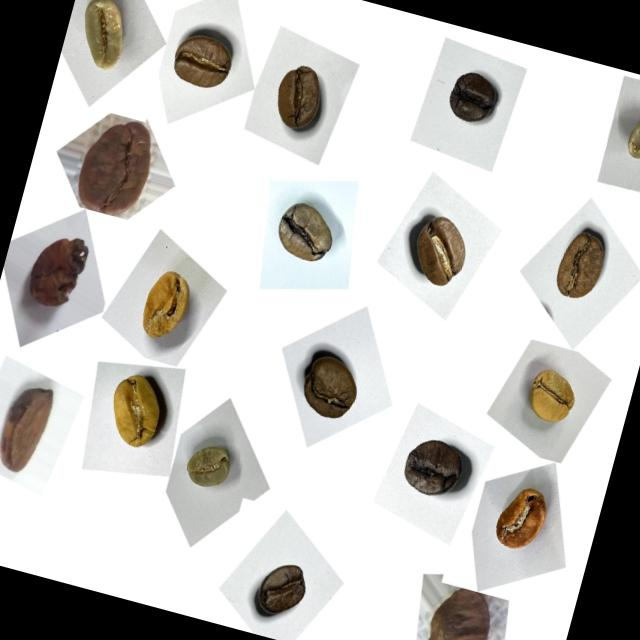bad: (54, 92, 176, 235), (8, 218, 107, 332), (0, 366, 71, 492), (407, 570, 514, 640)
dark: (381, 415, 482, 520), (429, 53, 516, 146), (240, 545, 324, 635)
green: (172, 426, 248, 507), (611, 102, 640, 181)
light: (84, 352, 186, 470), (116, 247, 215, 363), (506, 350, 594, 448), (57, 0, 150, 87), (477, 476, 559, 568)
medium: (388, 194, 489, 306), (260, 184, 355, 286), (284, 336, 377, 439), (157, 12, 249, 112), (534, 218, 622, 319), (253, 50, 342, 147)
